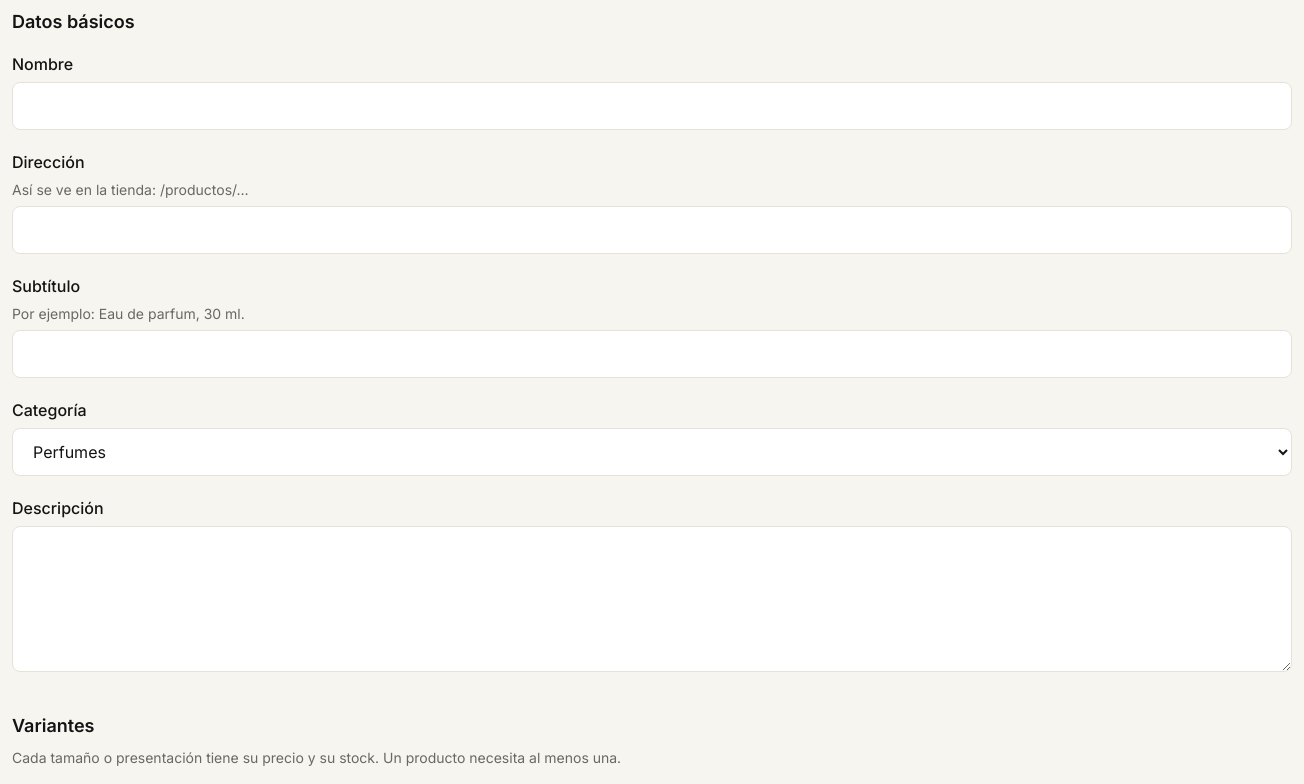
Test: ProductForm › si el pedido no llega (sin conexión) avisa y no pierde lo escrito
Type "Aceite de cedro" into the field labelled "Nombre" at (652, 106), box [12, 82, 1292, 130]
(page scrolled)
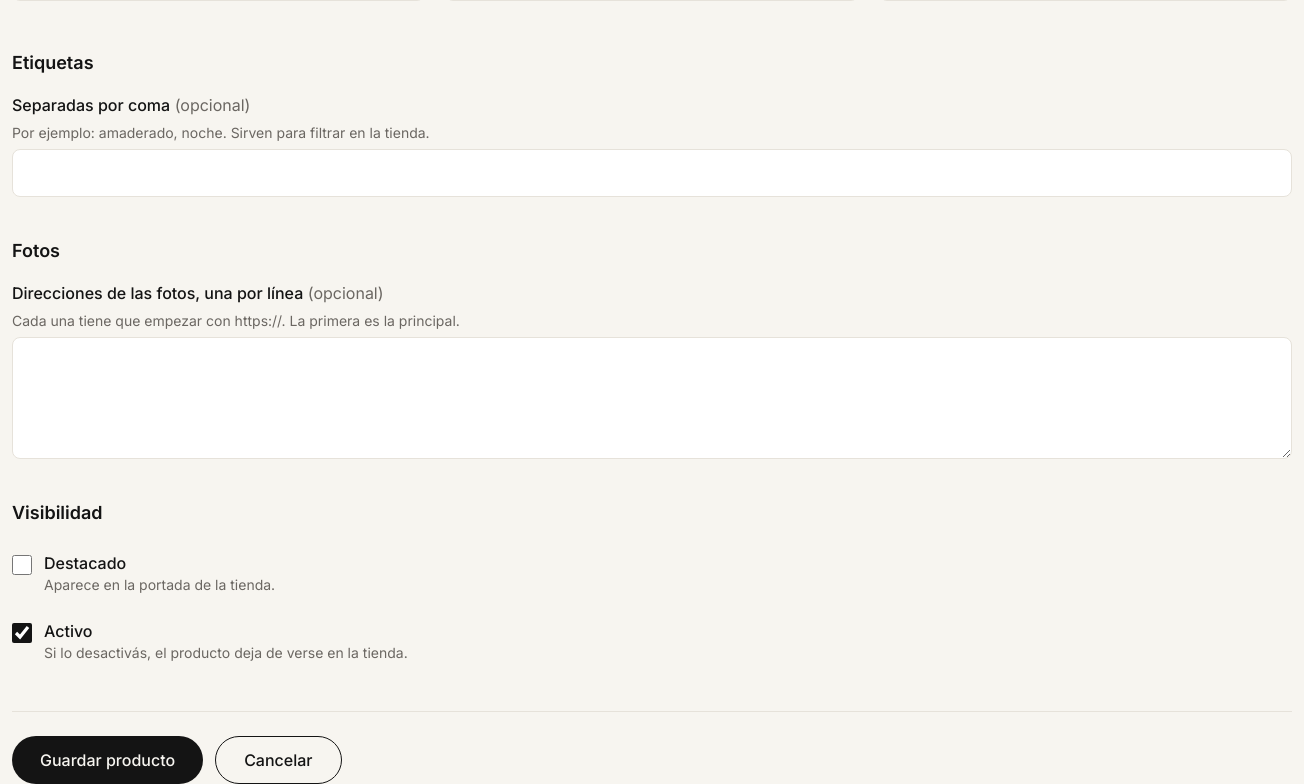
Click the button "Guardar producto" at (108, 760), box [12, 736, 203, 783]
(page scrolled)
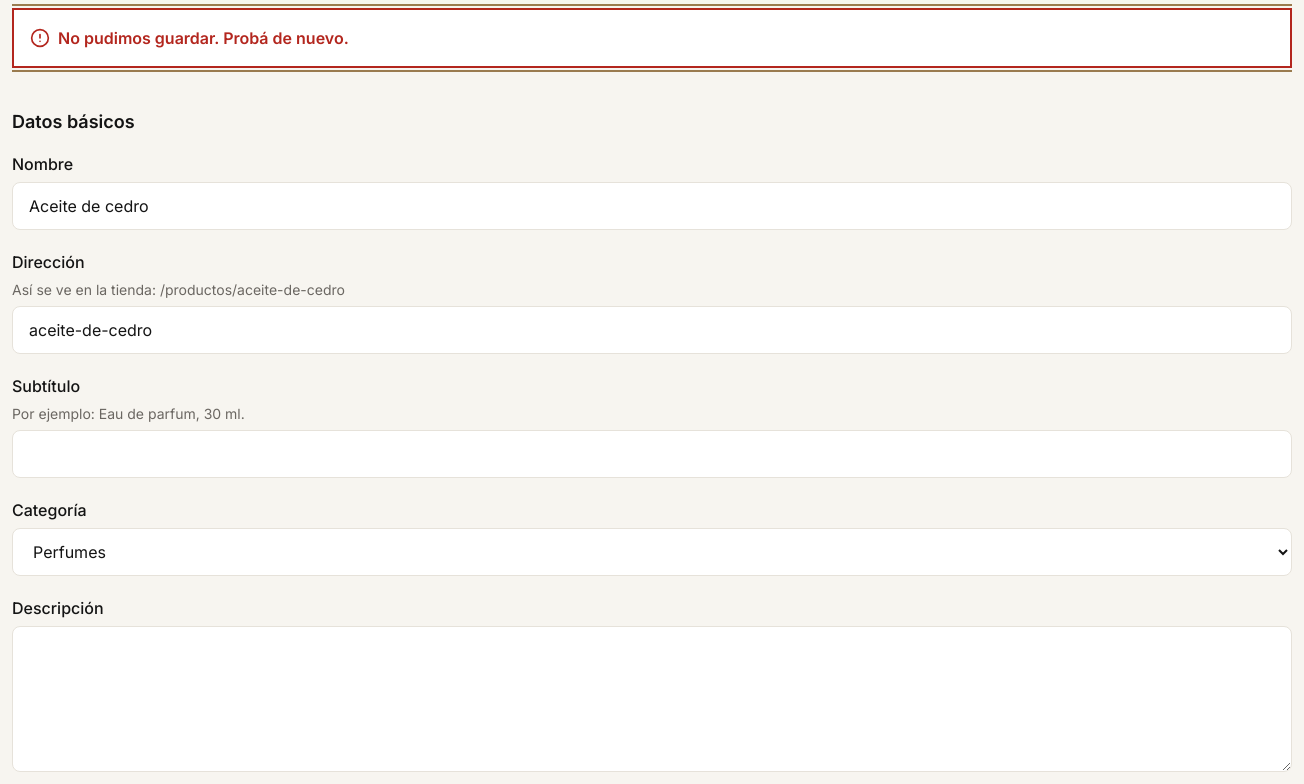
Result: the message reads "No pudimos guardar. Probá de nuevo." at [58, 28, 349, 48]
